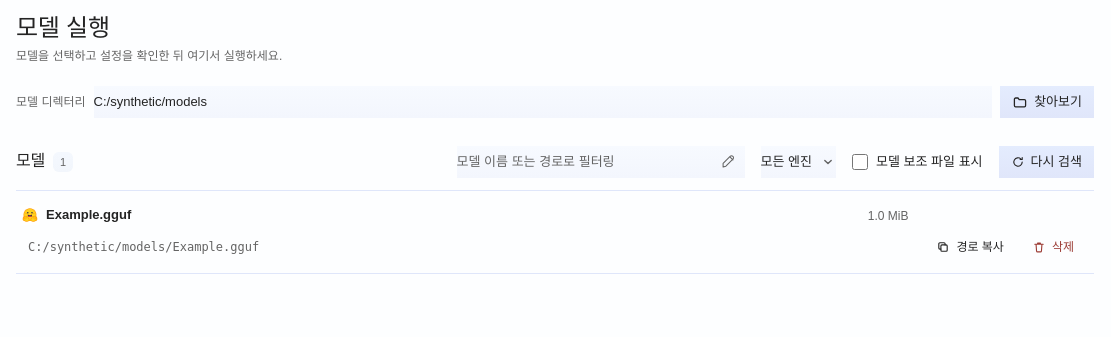
Test: model library empty results and filter recovery › explains query no-matches in ko and restores the scanned rows without changing the folder
The image size is (1111, 337).
Type "nothing matches" into the field named "모델 검색" at (601, 162), box x1=457 y1=146 x2=745 y2=178
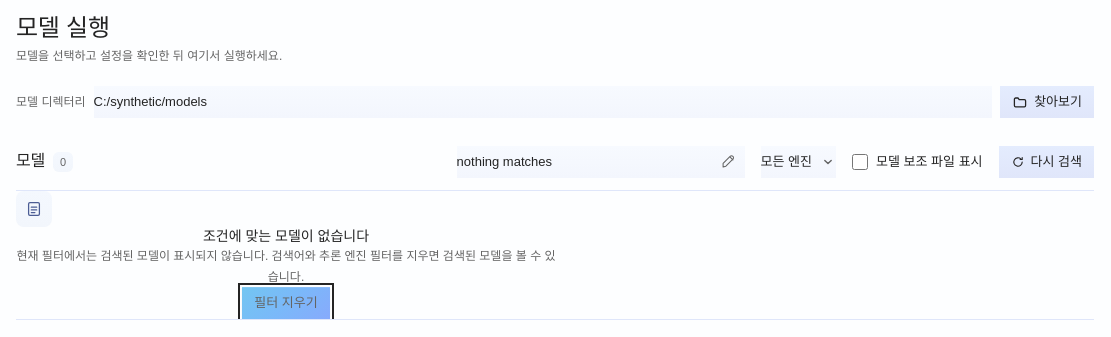
Now the heading "조건에 맞는 모델이 없습니다" is shown, box x1=203 y1=228 x2=369 y2=244
Now the text "현재 필터에서는 검색된 모델이 표시되지 않습니다. 검색어와 추론 엔진 필터를 지우면 검색된 모델을 볼 수 있습니다." is shown, box x1=16 y1=246 x2=556 y2=287
Click the button "필터 지우기" at (286, 303), box x1=242 y1=287 x2=330 y2=319
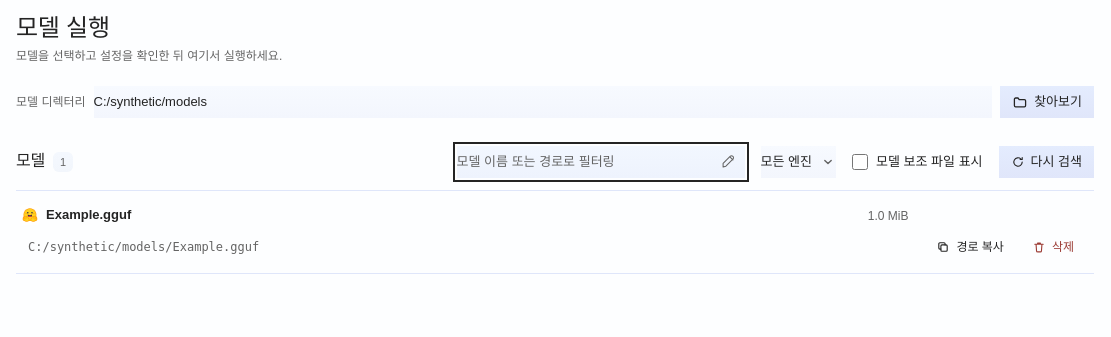
Expected: the checkbox labelled "모델 보조 파일 표시" is not checked, x1=852 y1=154 x2=868 y2=170
Now the field named "모델 검색" is empty, box x1=457 y1=146 x2=745 y2=178
Now the number of list items is 1, box x1=16 y1=191 x2=1094 y2=273
